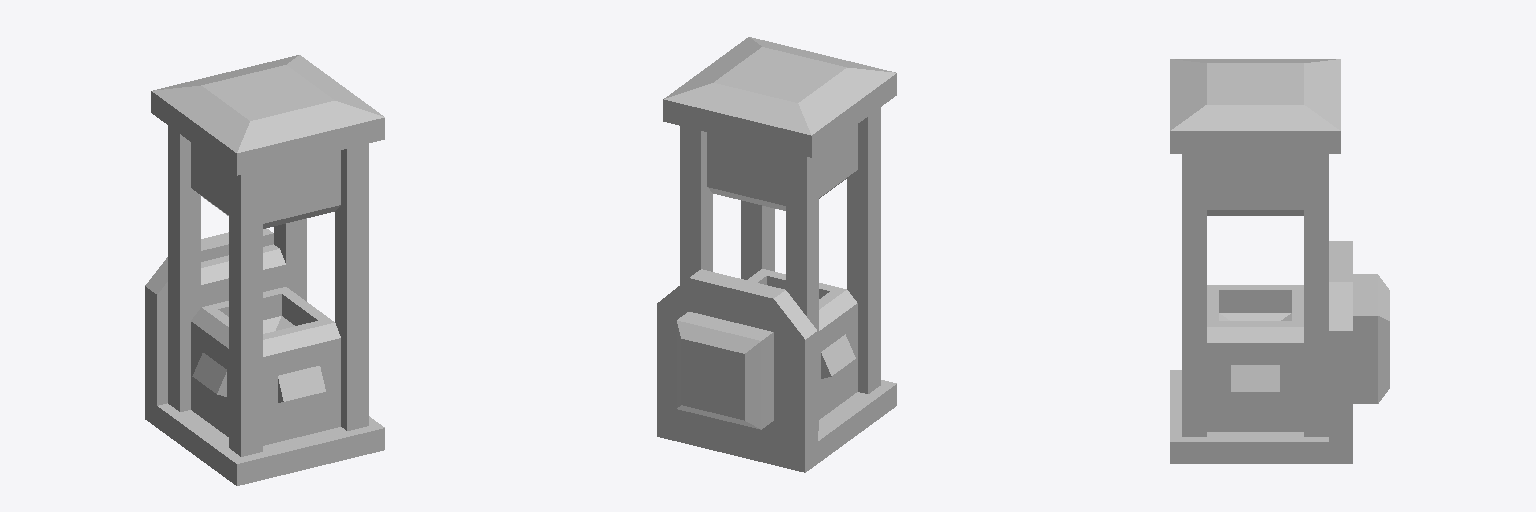
Rendered from actuator_earth_body.obj.
The picture shows the model from 3 angles: view 1: azimuth 30°, elevation 25°; view 2: azimuth 150°, elevation 25°; view 3: azimuth 270°, elevation 25°; orthographic projection.
Parts seen in each view (by area): view 1: QUAKE_REFINERY_BODY_Cube.021; view 2: QUAKE_REFINERY_BODY_Cube.021; view 3: QUAKE_REFINERY_BODY_Cube.021.
Boxes of the visible parts, <box> form: QUAKE_REFINERY_BODY_Cube.021: <box>145,55,384,485</box>; QUAKE_REFINERY_BODY_Cube.021: <box>657,37,896,472</box>; QUAKE_REFINERY_BODY_Cube.021: <box>1170,59,1389,463</box>.
Size of the model in its own units: 0.875 by 1.94 by 1.12.